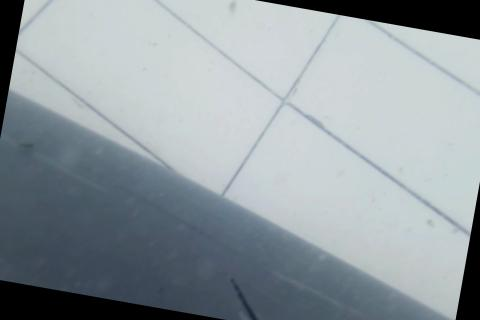keretakan: (221, 274, 282, 320)
